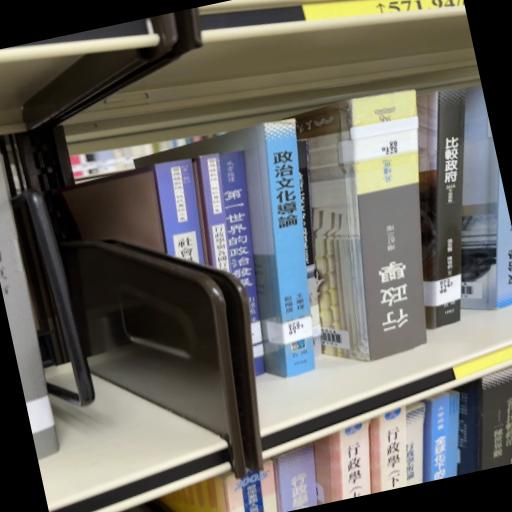reverse: (292, 91, 427, 361)
